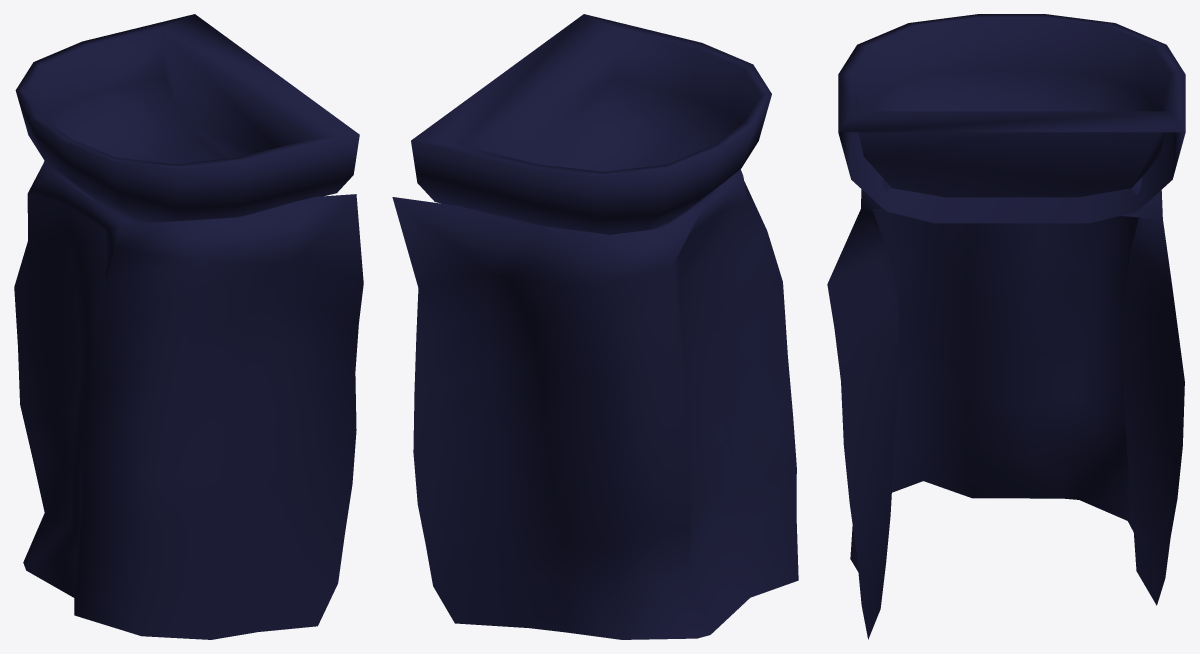
The model's file is sink.glb.
3 renders of one model, left to right at view 1: azimuth 30°, elevation 25°; view 2: azimuth 150°, elevation 25°; view 3: azimuth 270°, elevation 25°, orthographic. The views are drawn at different scales.
Visible parts, largest first — view 1: Umywalka; view 2: Umywalka; view 3: Umywalka.
Part boxes in pixels (x1,y1,x2,y2): Umywalka: (14, 14, 363, 639); Umywalka: (392, 14, 798, 639); Umywalka: (827, 14, 1185, 639).
Size of the model in its own units: 0.5272 by 0.9121 by 0.5676.
